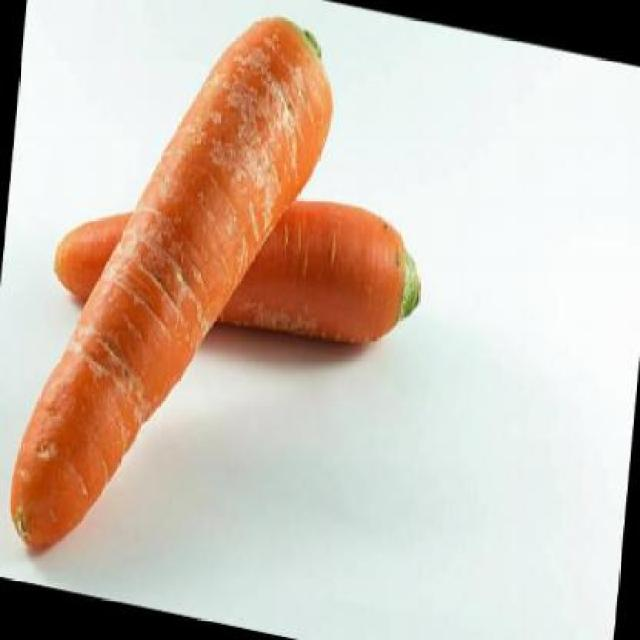carrot: (6, 0, 342, 602), (49, 141, 428, 385)
